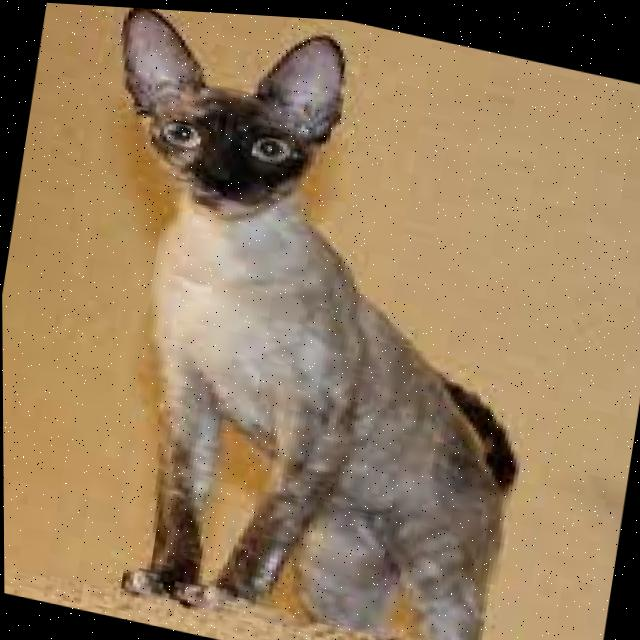Cornish Rex: (23, 1, 588, 640)
